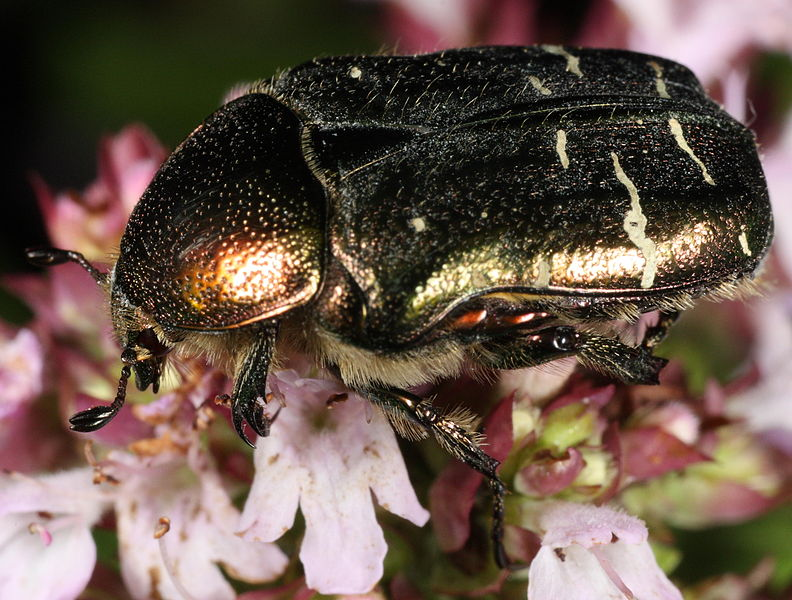Cetonia_aurata: (46, 28, 781, 470)
